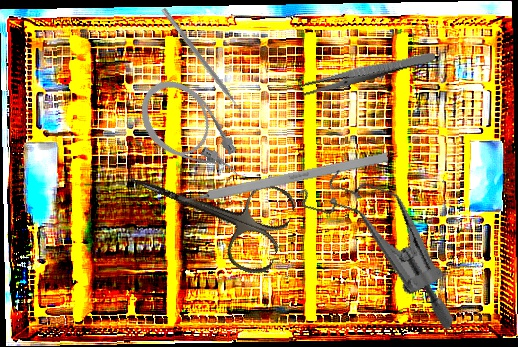Cannula: (126, 66, 255, 203)
Dressing Forceps: (297, 47, 437, 98)
Hook Surgical: (165, 151, 389, 210)
Iris Scissors: (114, 135, 300, 280)
Spatula Surgical: (156, 7, 248, 120)
Speculum: (272, 158, 489, 332)
